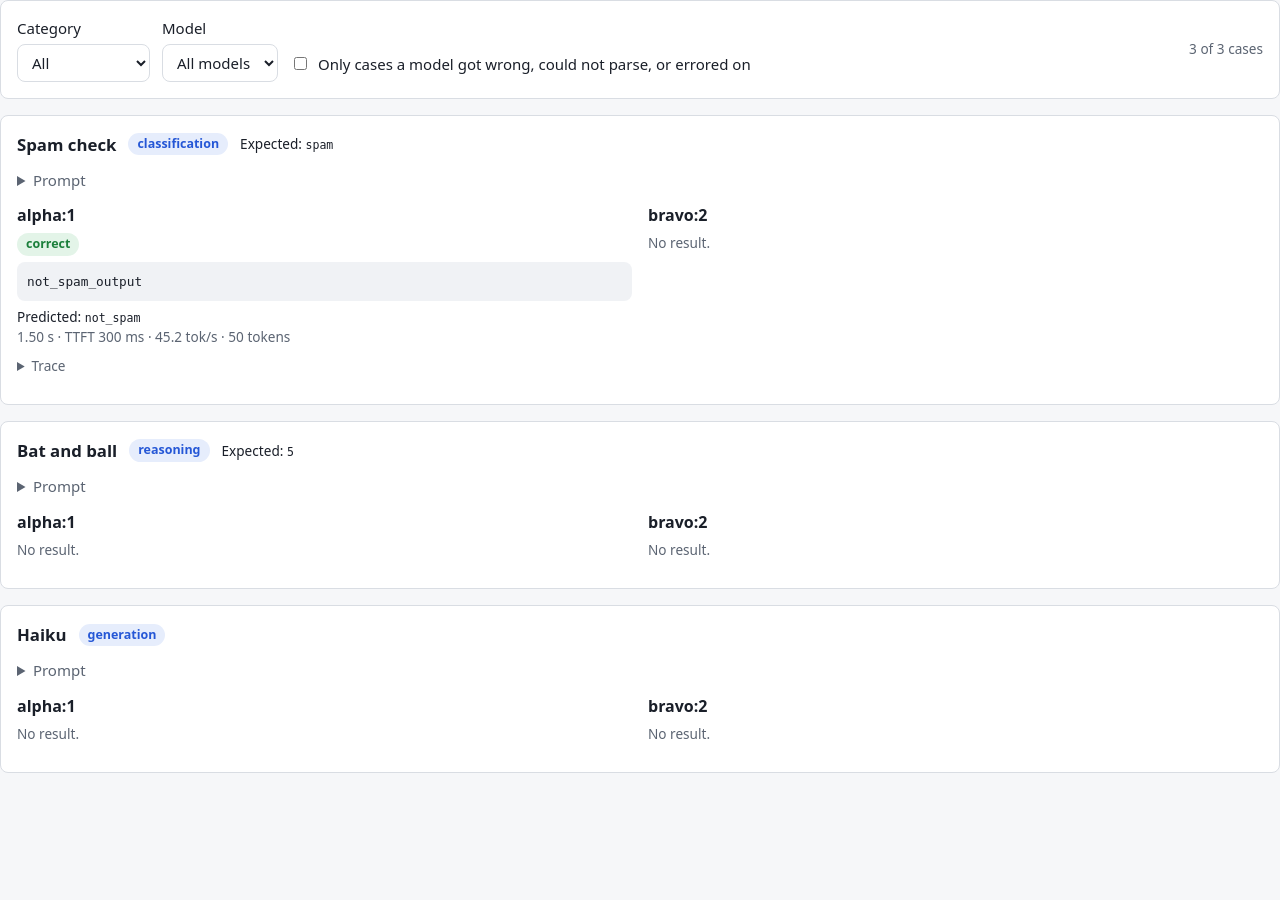
Test: add-otel-tracing: span tree › an unreachable Tempo only affects the trace section - output/scores/metrics are unaffected
Click the heading "Trace": (48, 365) [31,356,65,375]
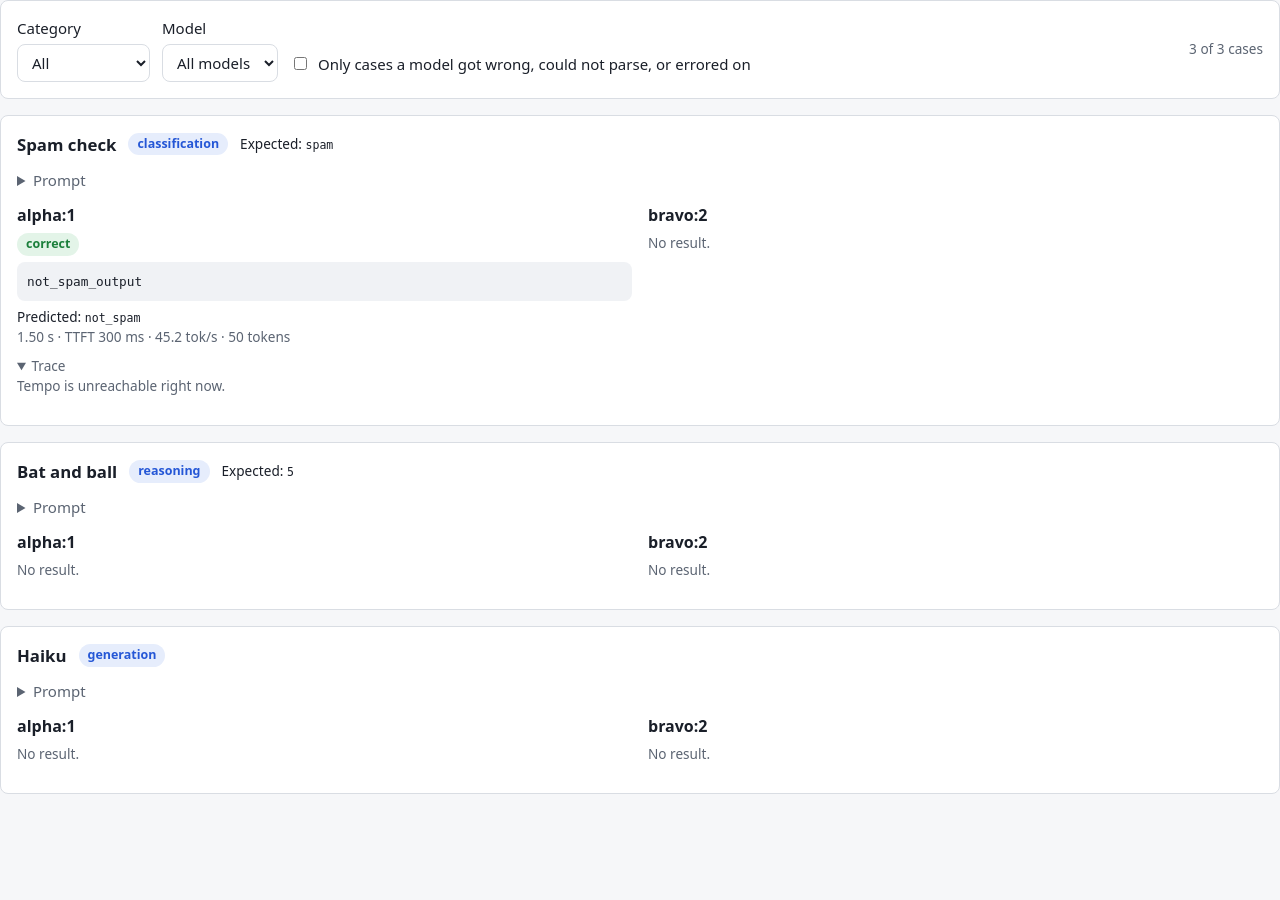
Check: the text "not_spam_output" is shown, box [17,262,632,301]
Check: the text "Tempo is unreachable right now." is shown, box [17,376,225,395]
